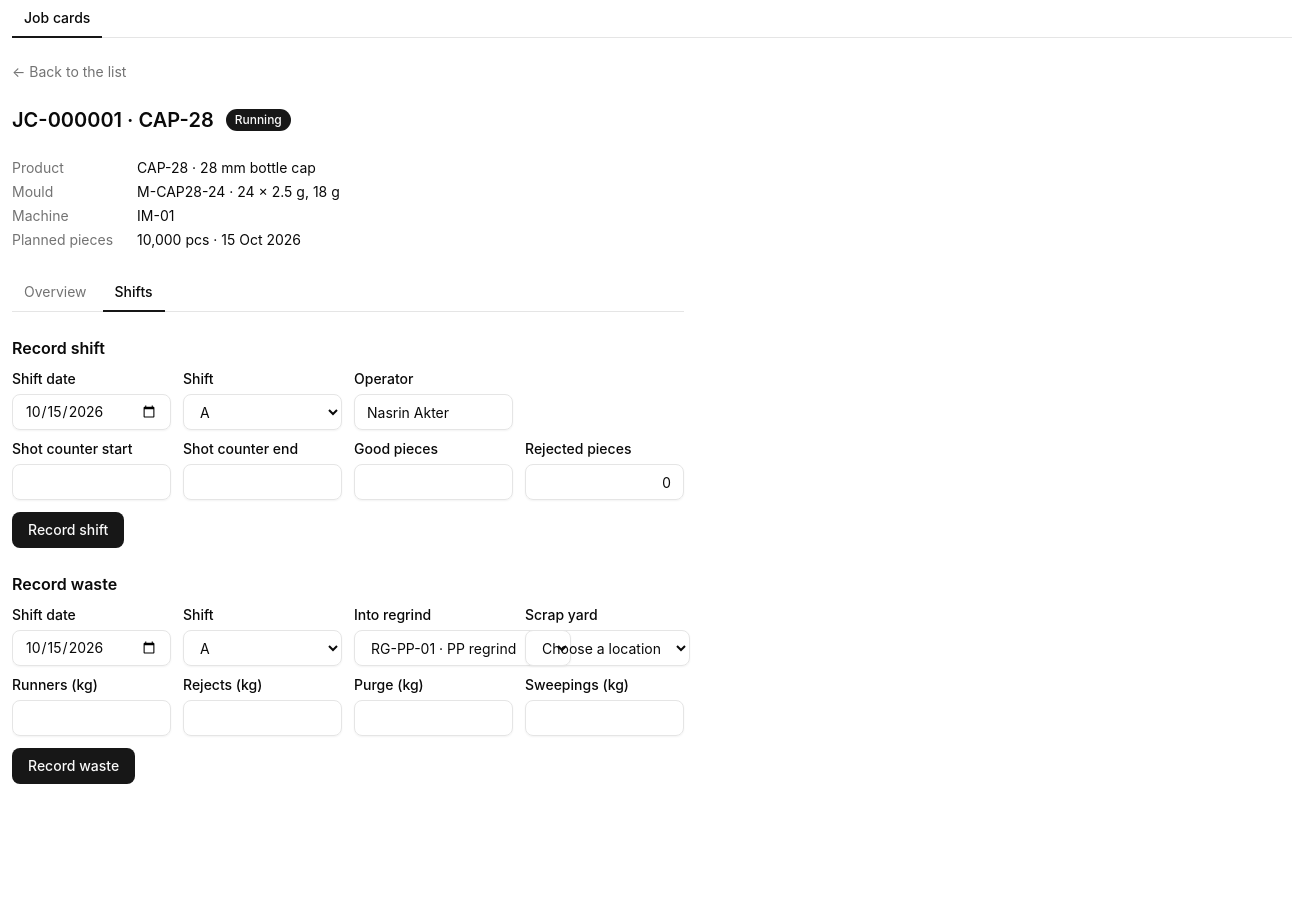
job card page › lets an operator record only as themselves
Type "0" into the field labelled "Shot counter start" at (92, 482), box x1=12 y1=464 x2=171 y2=500
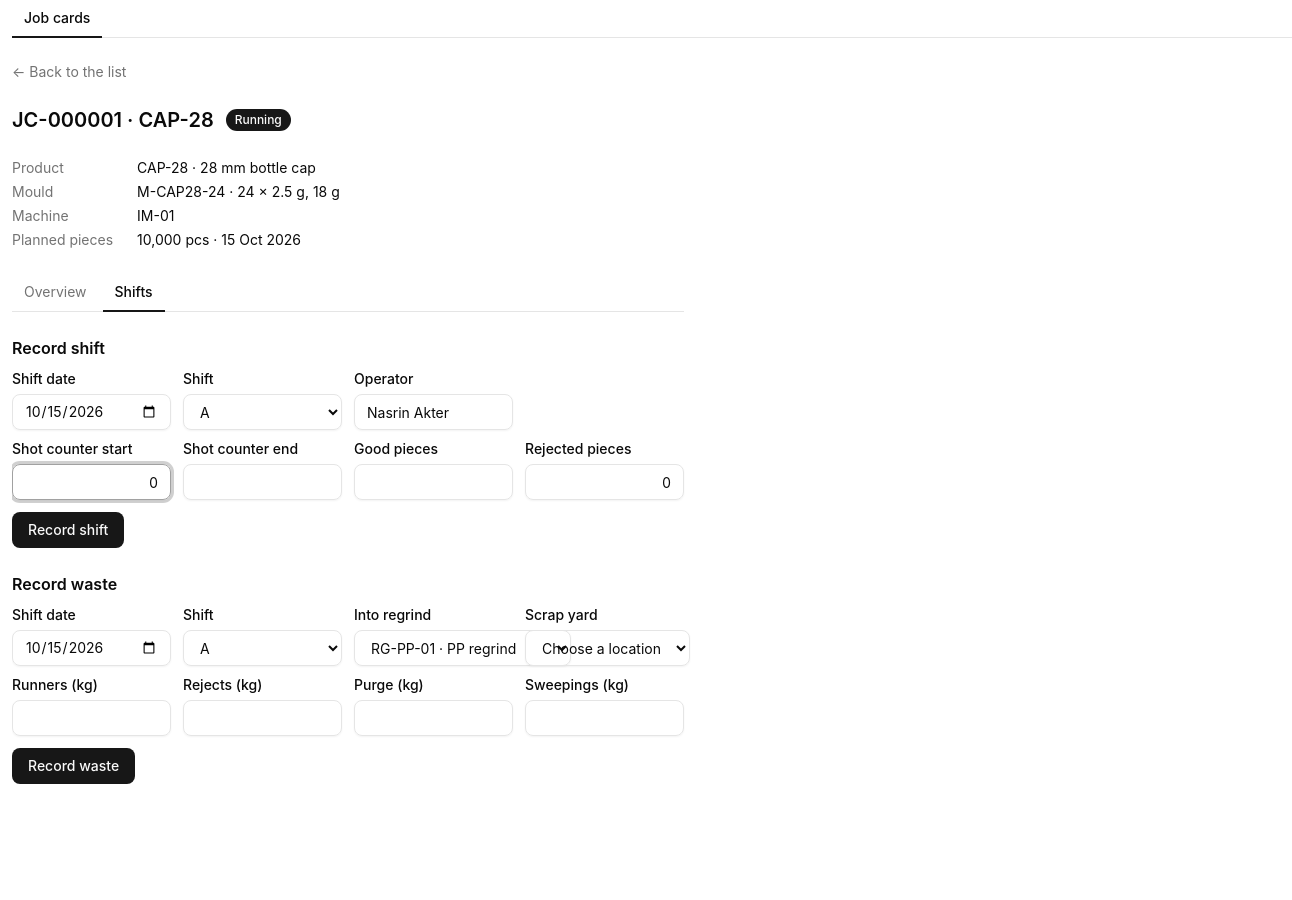
Type "10" into the field labelled "Shot counter end" at (262, 482), box x1=183 y1=464 x2=342 y2=500
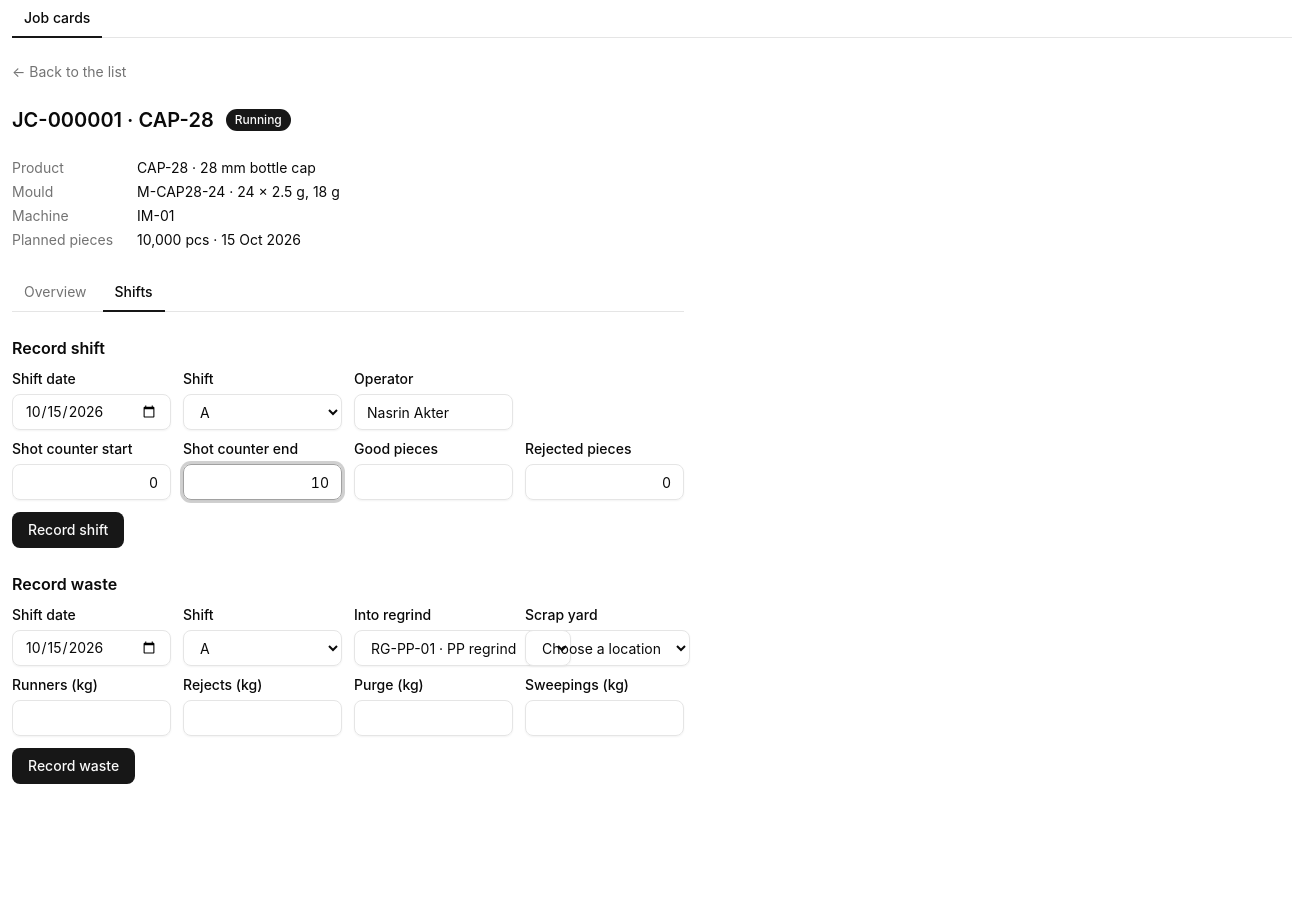
Type "240" into the field labelled "Good pieces" at (434, 482), box x1=354 y1=464 x2=513 y2=500
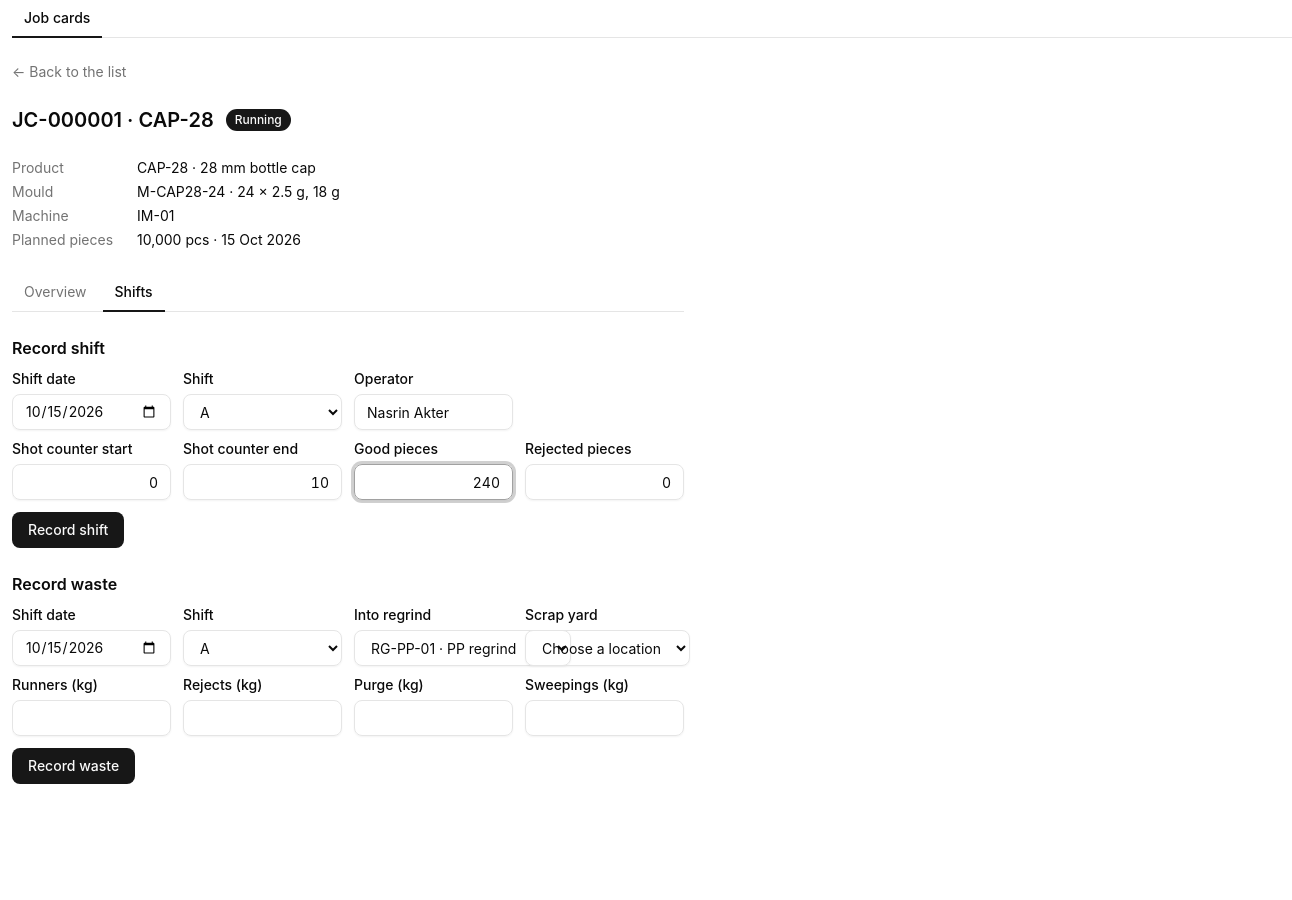
Click the button "Record shift" at (68, 530), box x1=12 y1=512 x2=124 y2=548
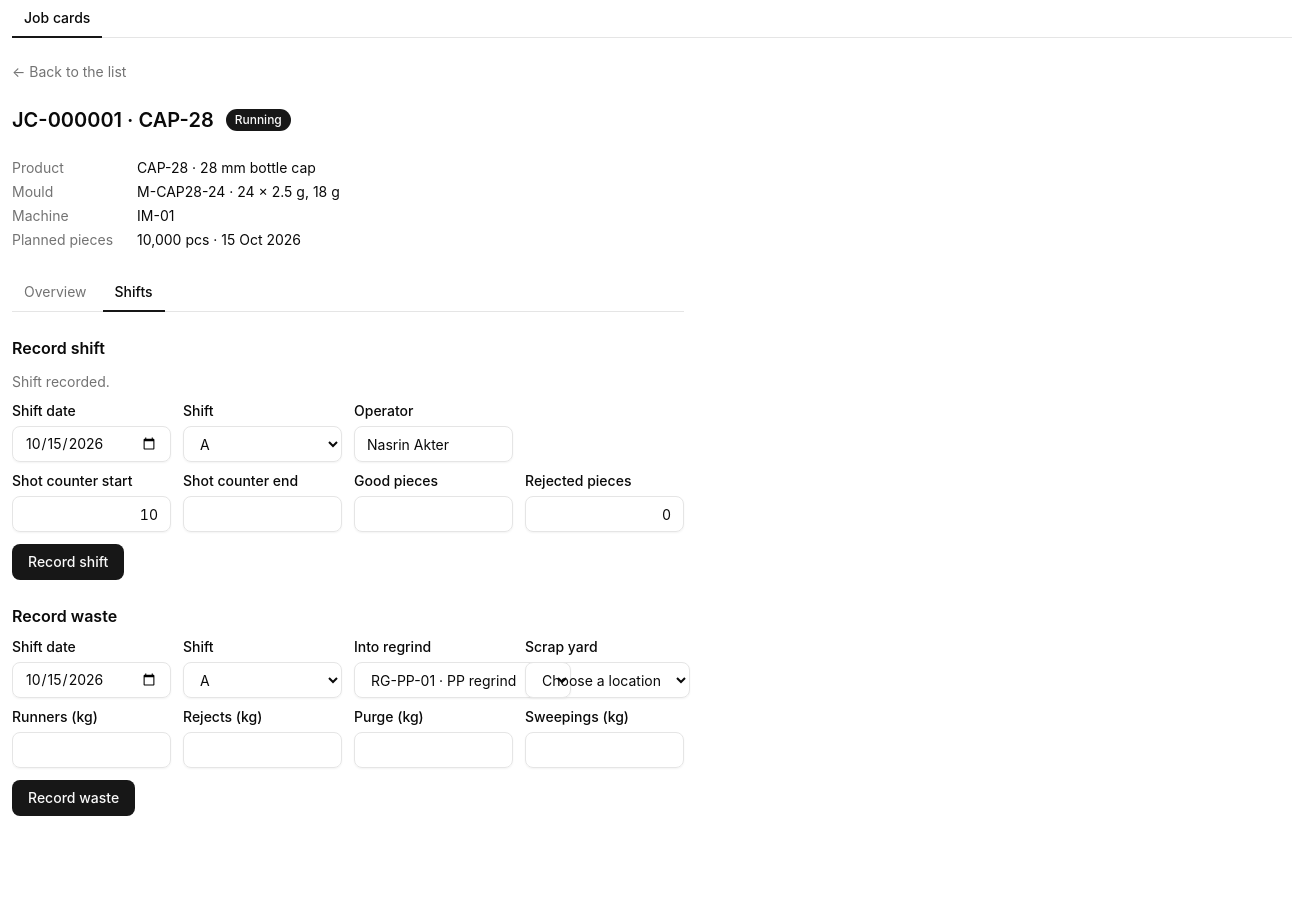
Expected: the text "Shift recorded." is shown, x1=12 y1=373 x2=110 y2=390
